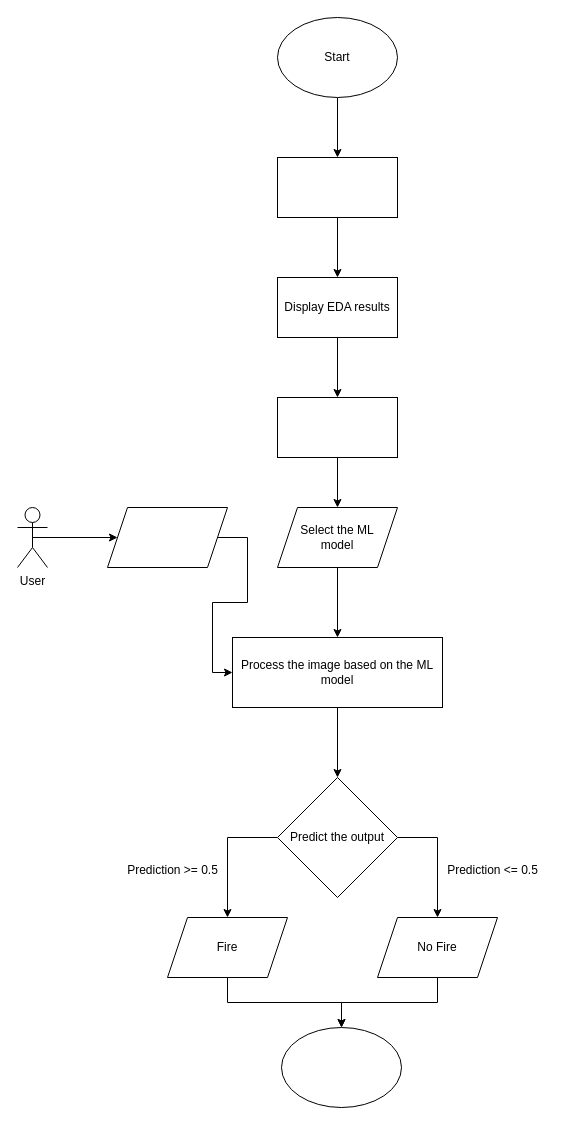
Some shapes in this 565 by 1125 pixel diagram are drawn without their labels. The shapes that lost their labels are listed below. From the top down, each one's centre as x and y in pixels, then its label:
At point 337,187: "Importing all packages".
At point 337,427: "Display all ML models".
At point 167,537: "Input image".
At point 341,1067: "Stop".
